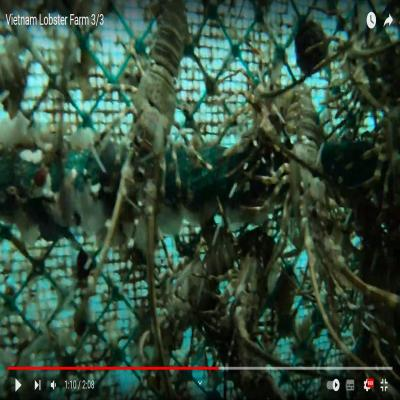lobster: (123, 6, 189, 198), (285, 90, 335, 282)
